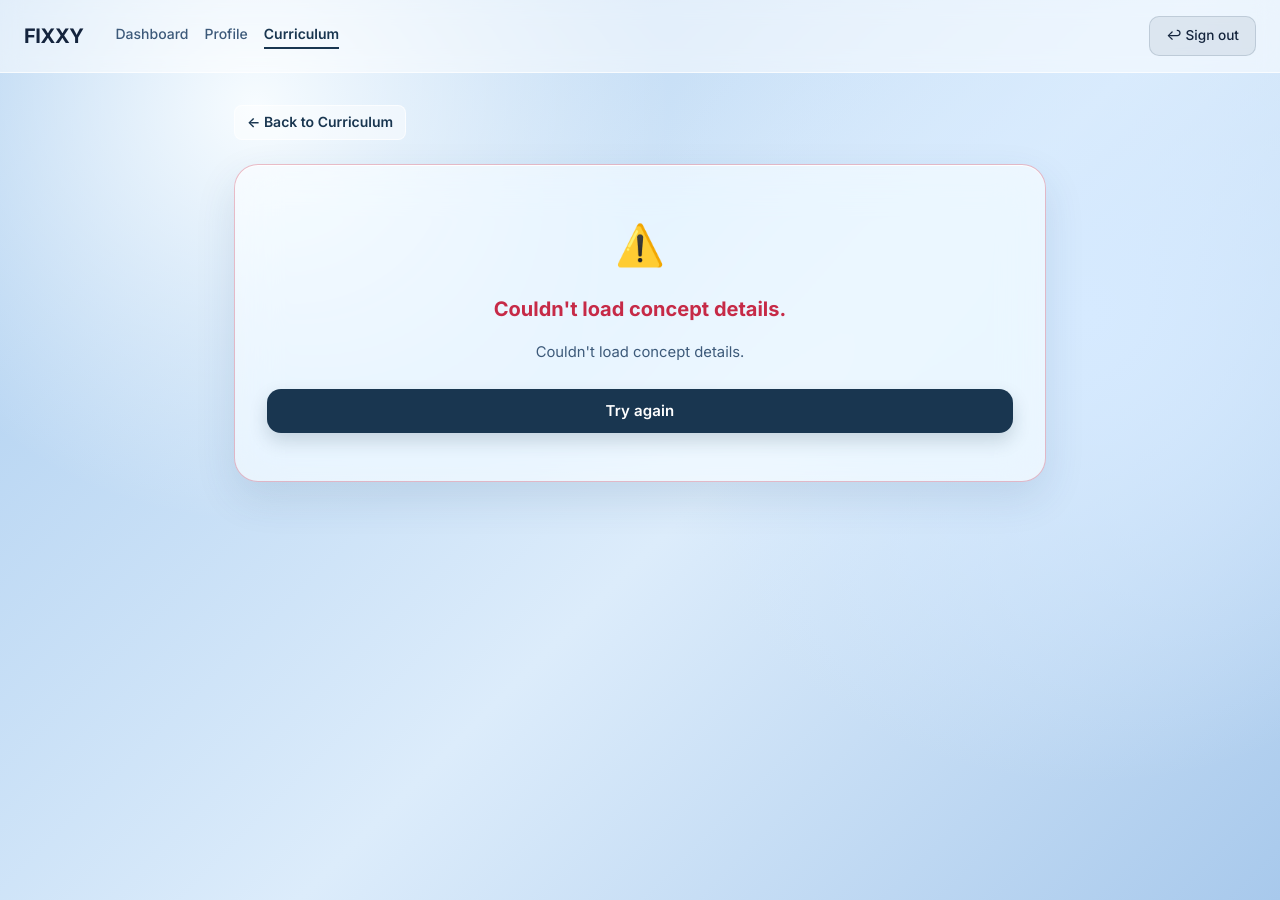
ConceptDetailPage › renders error state and allows retry on API failure
Check: the heading "Couldn't load concept details." is shown, box [494, 293, 786, 325]
Click the button "Try again". click: (640, 411)
box: [267, 389, 1013, 433]
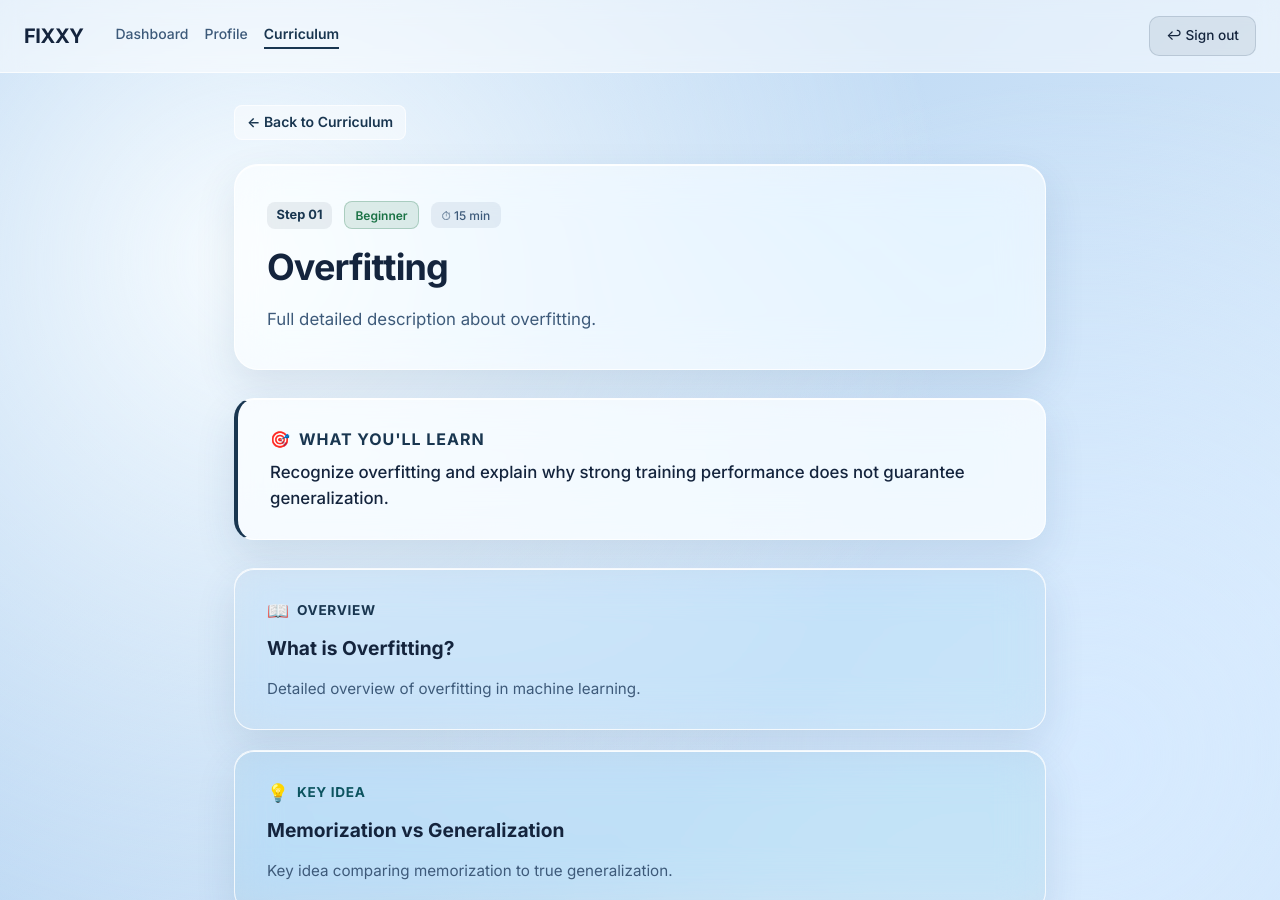
Check: the heading "Overfitting" is shown, box [267, 245, 448, 289]
